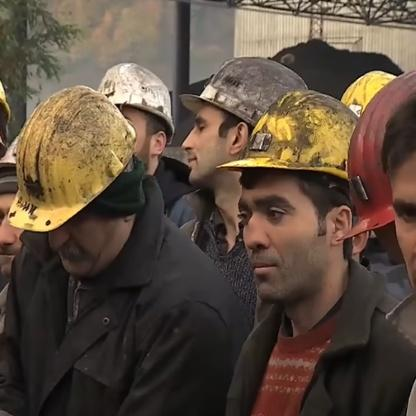helmet: (16, 87, 159, 283), (242, 91, 369, 301), (181, 53, 272, 185)
